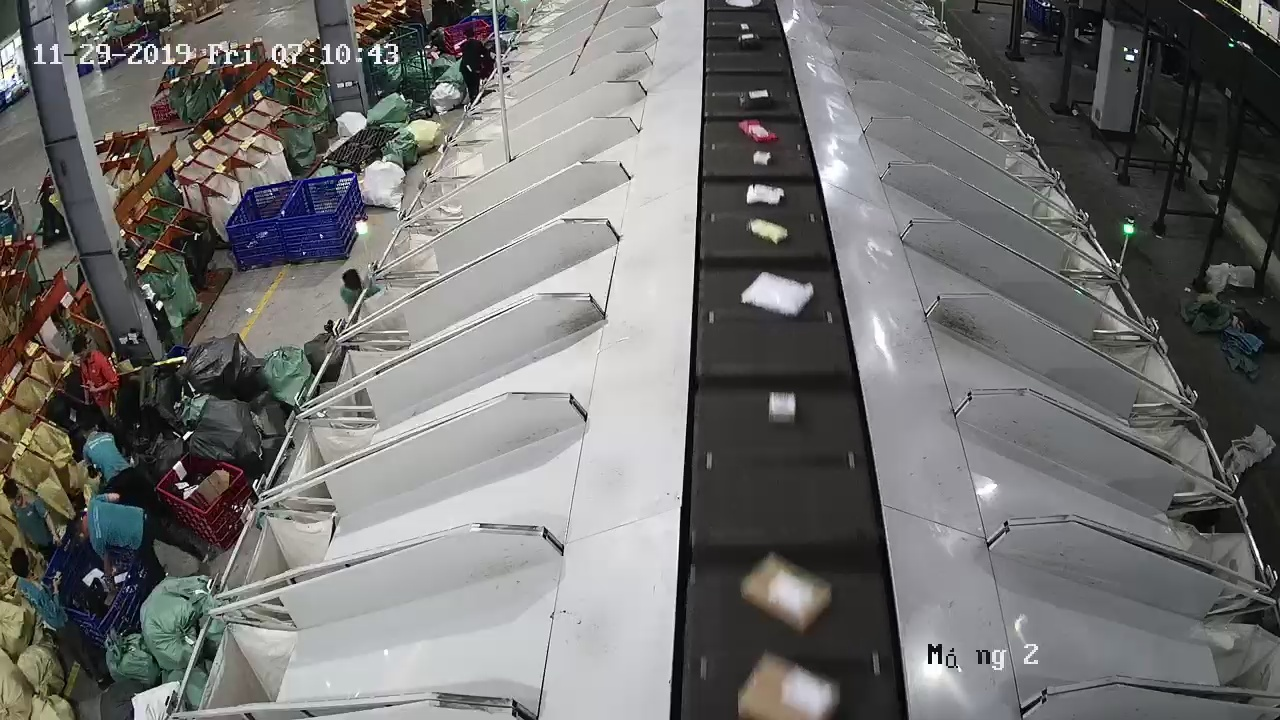parcel: (740, 553, 833, 634), (740, 271, 814, 315), (750, 218, 788, 245), (739, 119, 779, 143), (746, 183, 785, 206), (769, 391, 796, 424), (753, 150, 772, 165)
